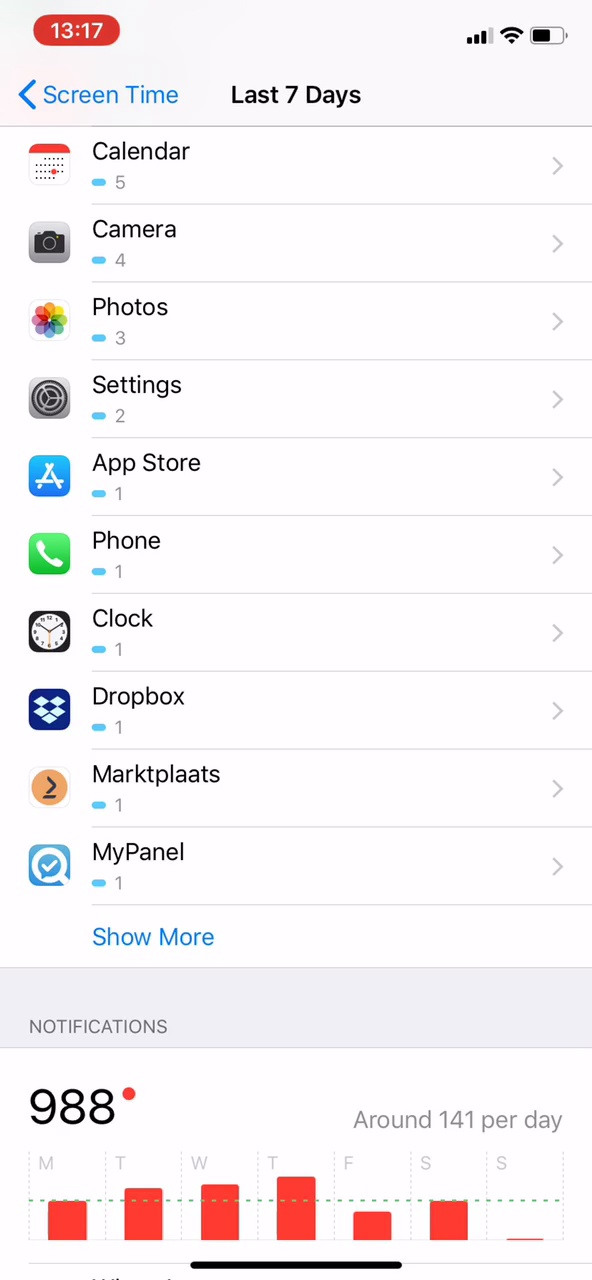not_over: (18, 974, 168, 1142)
pick_app: (29, 827, 268, 907), (29, 750, 261, 827), (22, 285, 248, 364), (23, 594, 239, 671), (20, 364, 228, 442), (25, 677, 248, 746), (25, 207, 229, 282), (22, 447, 237, 516), (22, 132, 222, 203), (23, 524, 229, 592)
week: (207, 73, 380, 118)
